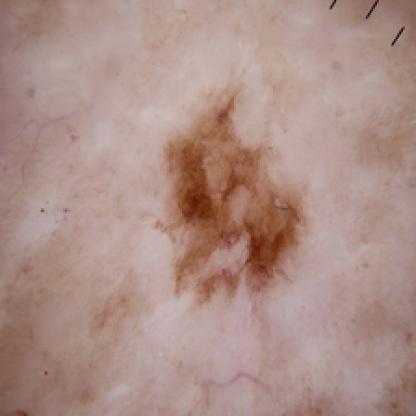Skin_Cancer-Malignant: (154, 83, 304, 309)
